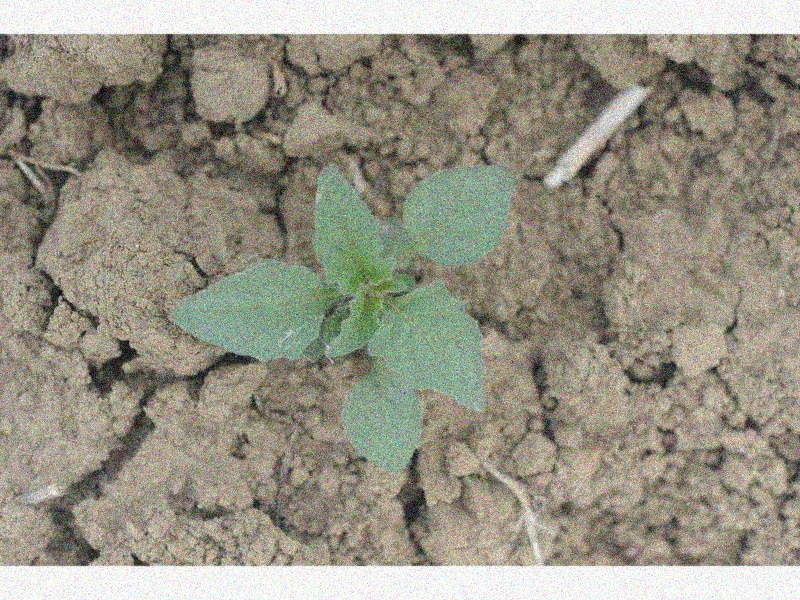nightshade: (171, 162, 516, 476)
